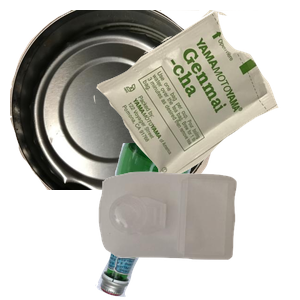glass: (93, 143, 284, 300)
metal: (10, 10, 221, 190)
plastic: (96, 169, 300, 300)
trash: (91, 10, 300, 186)
